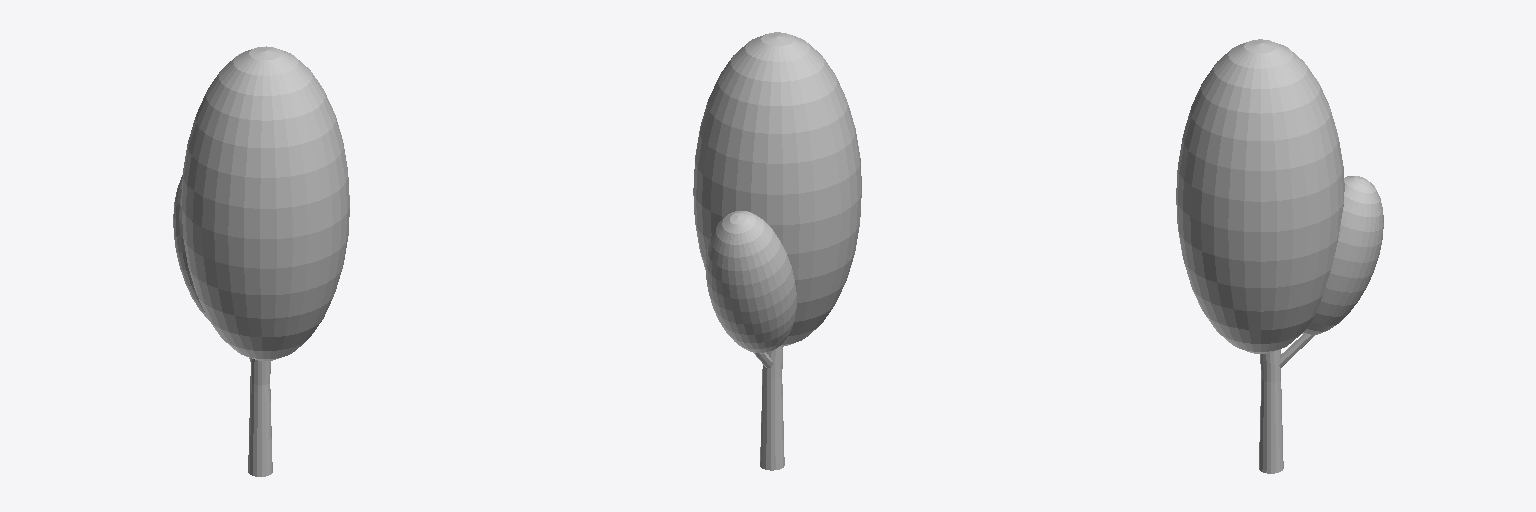
File: tree.obj
The picture shows the model from 3 angles: view 1: azimuth 30°, elevation 25°; view 2: azimuth 150°, elevation 25°; view 3: azimuth 270°, elevation 25°; orthographic projection.
Visible parts, largest first — view 1: Sphere, Circle; view 2: Sphere, Circle; view 3: Sphere, Circle.
Part boxes in pixels (x1,y1,x2,y2): Sphere: (173,46,349,360); Circle: (248,358,272,476); Sphere: (693,32,861,353); Circle: (753,347,784,470); Sphere: (1176,39,1383,353); Circle: (1259,334,1314,473).
Size of the model in its own units: 3.8 by 10.54 by 4.67.